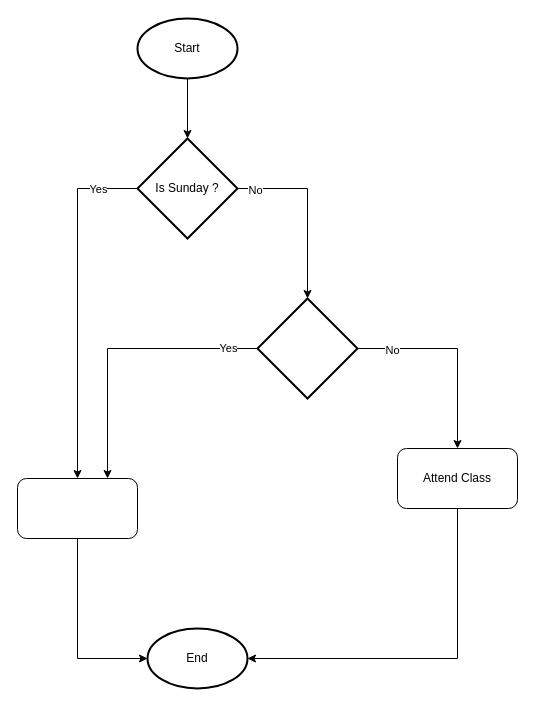
This 535x706 diagram has some shape labels left out. Here are the shapes that lost their labels. From the top down, the centre of each, then its label:
the point at 307,348: Is Holiday ?
the point at 77,508: Enjoy
